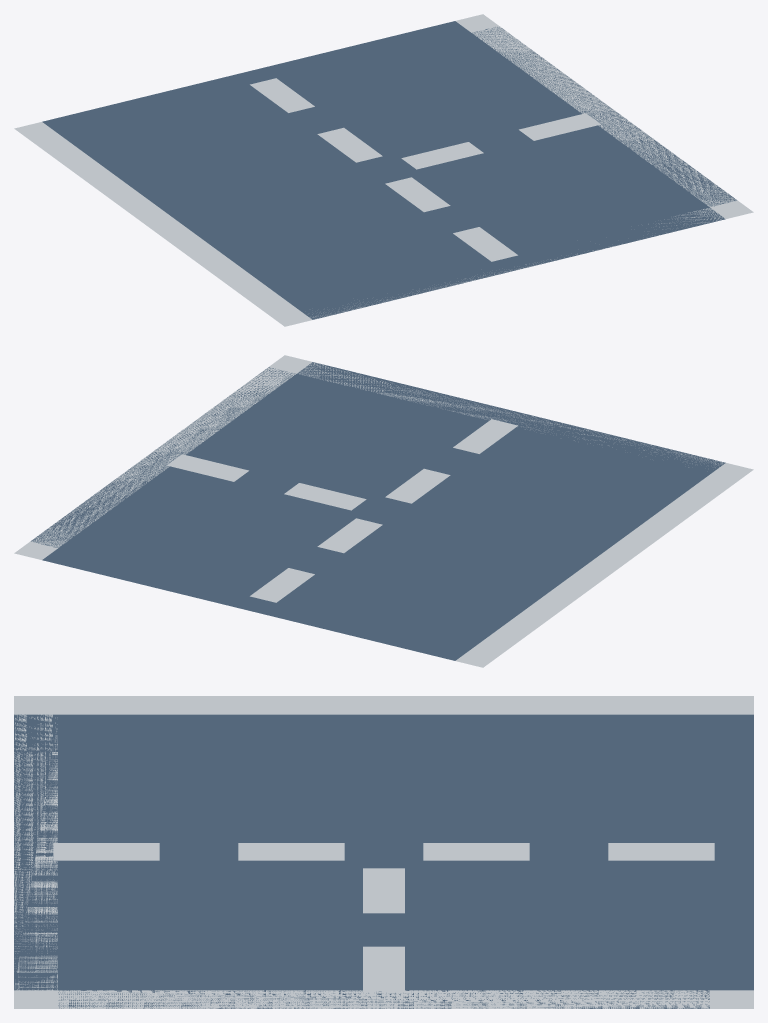
File: road.fbx
3 renders of one model, top to bottom at view 1: azimuth 30°, elevation 25°; view 2: azimuth 150°, elevation 25°; view 3: azimuth 270°, elevation 25°, orthographic. The views are drawn at different scales.
Parts seen in each view (by area): view 1: road, road_corner; view 2: road, road_corner; view 3: road, road_corner.
Boxes of the visible parts, x1,y1,x2,y2 form: road: [14, 14, 753, 326]; road_corner: [15, 14, 752, 326]; road: [14, 355, 753, 667]; road_corner: [15, 356, 752, 667]; road: [14, 696, 753, 1008]; road_corner: [14, 696, 753, 1008].
Bounding box in the file's own units: 1000 × 1 × 1000.
